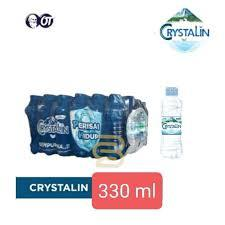BIODEGRADABLE: (158, 81, 194, 163)
